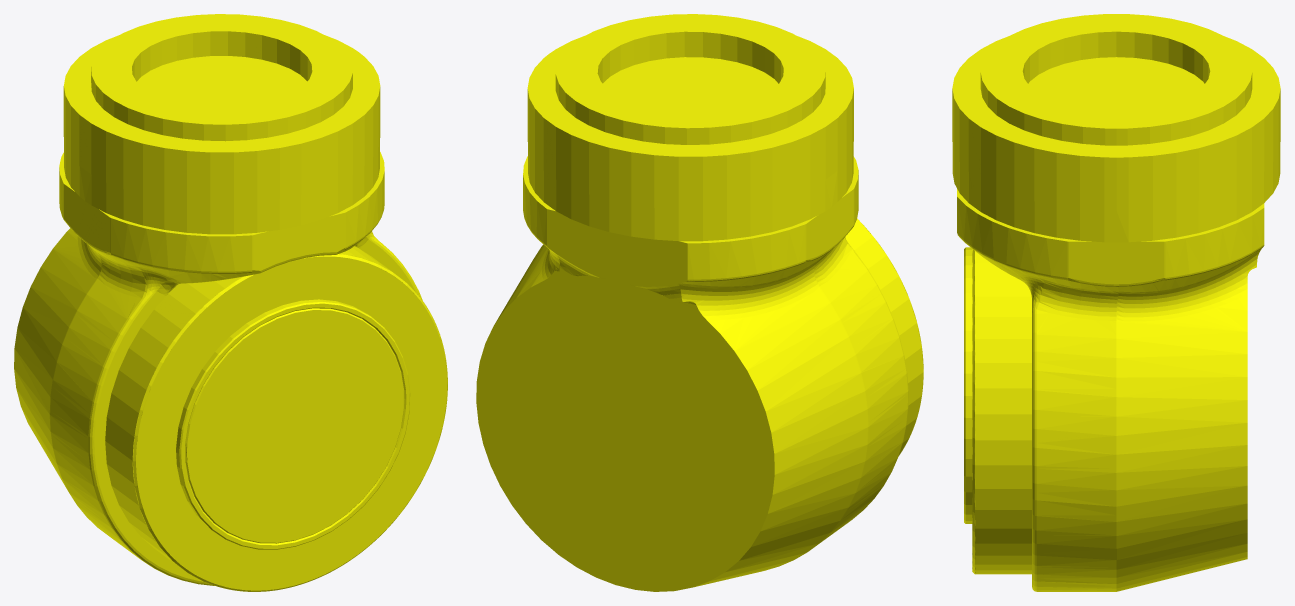
3 views of the same model, side by side, from view 1: azimuth 30°, elevation 25°; view 2: azimuth 150°, elevation 25°; view 3: azimuth 270°, elevation 25° (orthographic). The views are drawn at different scales.
Visible parts, largest first — view 1: node; view 2: node; view 3: node.
Part boxes in pixels (box(x1,y1,x2,y2)): node: box(14, 14, 447, 591); node: box(476, 14, 923, 591); node: box(952, 14, 1280, 591).
Bounding box in the file's own units: 88 × 118 × 70.
